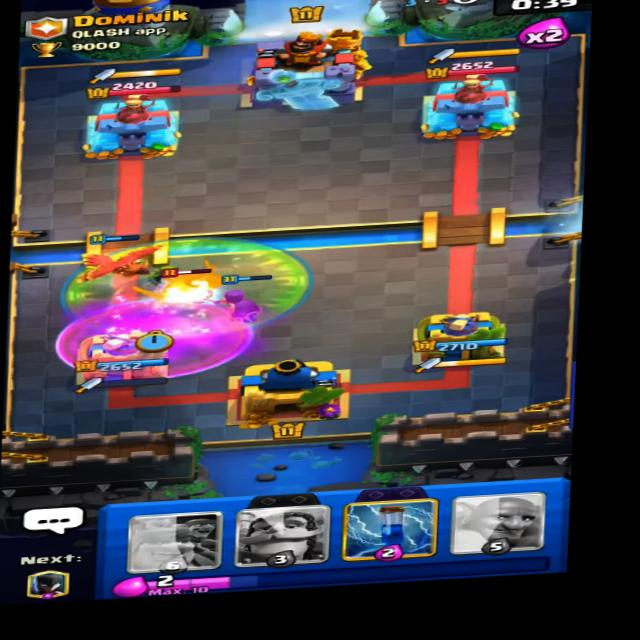Pekka: (128, 255, 237, 310)
